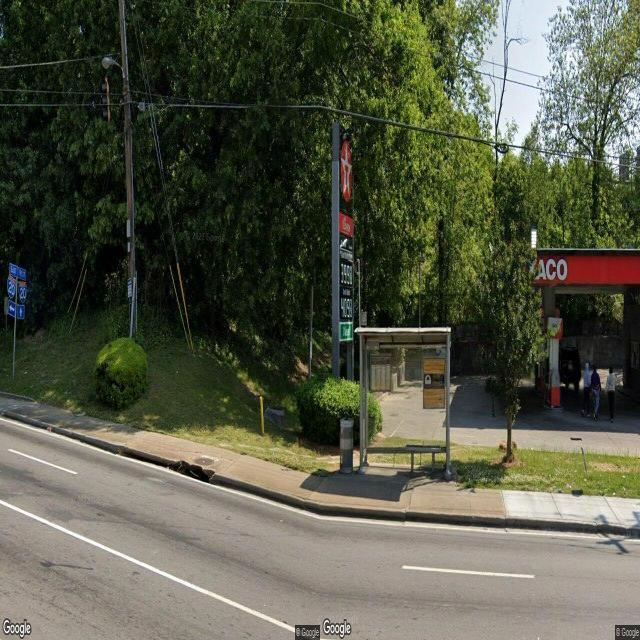seating: (403, 442, 445, 474)
shelter: (356, 327, 450, 479)
trash_can: (339, 416, 354, 472)
